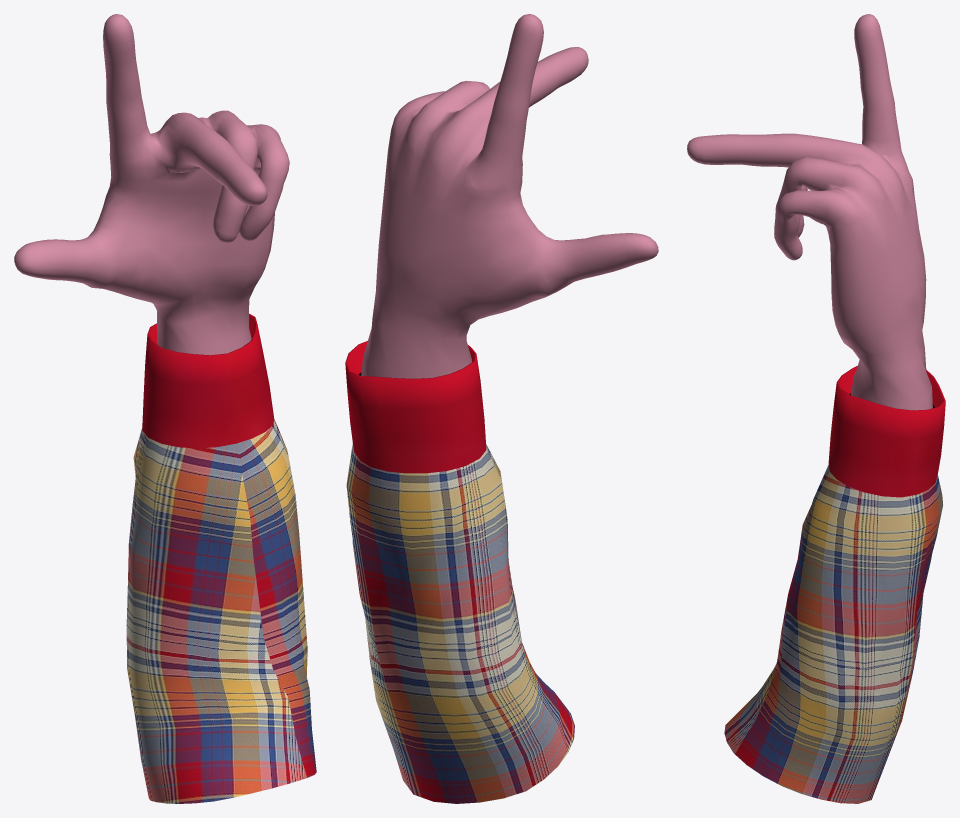
File: lefthandrule.glb
The picture shows the model from 3 angles, left to right: view 1: azimuth 30°, elevation 25°; view 2: azimuth 150°, elevation 25°; view 3: azimuth 270°, elevation 25°; orthographic projection. The views are drawn at different scales.
Visible parts, largest first — view 1: SweaterL, HandL; view 2: SweaterL, HandL; view 3: SweaterL, HandL.
Part boxes in pixels (box(x1,y1,x2,y2)): SweaterL: box(126, 313, 316, 803); HandL: box(14, 14, 289, 355); SweaterL: box(345, 341, 574, 803); HandL: box(361, 14, 658, 378); SweaterL: box(724, 365, 945, 803); HandL: box(687, 14, 932, 410).
Bounding box in the file's own units: 0.5347 × 1.44 × 0.4611.
Materials: 1 (1 with a texture image).
